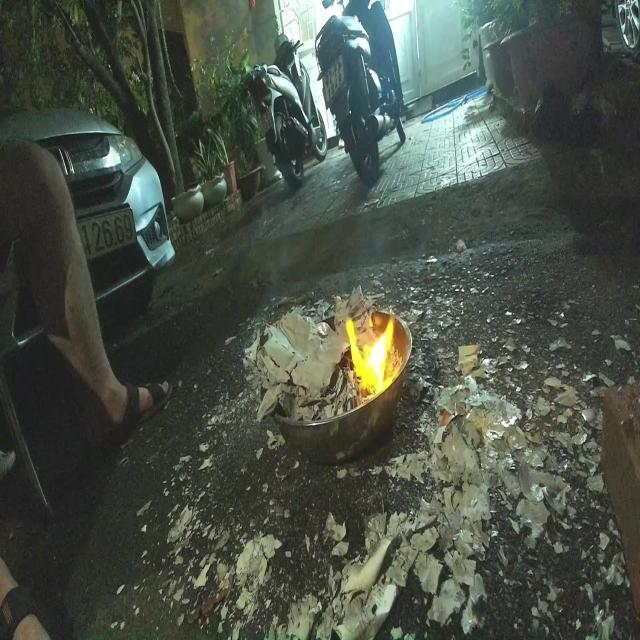Fire: (344, 315, 396, 397)
